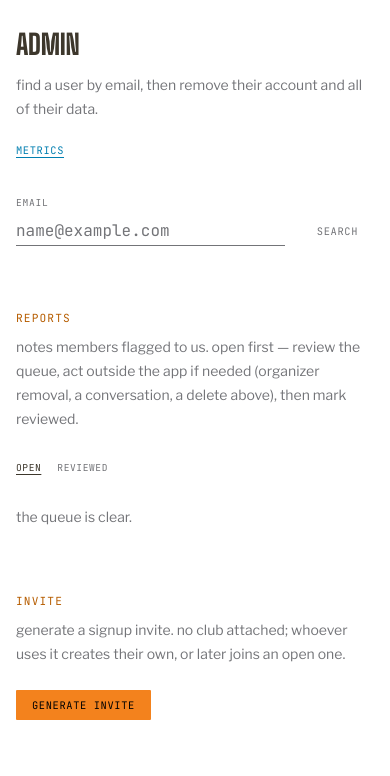
Test: AdminRoute › delete: a 409 self-delete shows the calm backend message and keeps the row
Type "target" into the search field labelled "email". click: point(150, 232)
box: [16, 217, 285, 246]
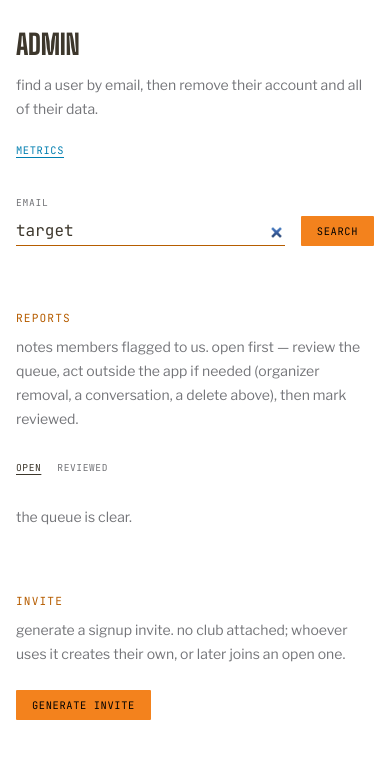
Click the button "search". click: point(337, 231)
box: [301, 216, 374, 246]
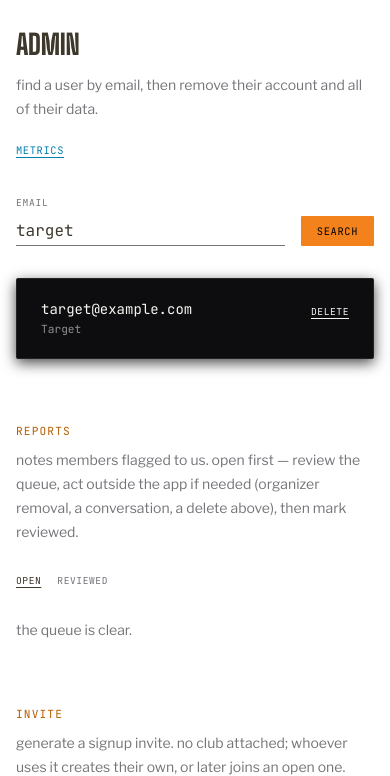
Expected: the text "target@example.com" is shown, [41, 299, 192, 319]
Click the button "delete". click: point(330, 312)
box: [311, 299, 349, 325]
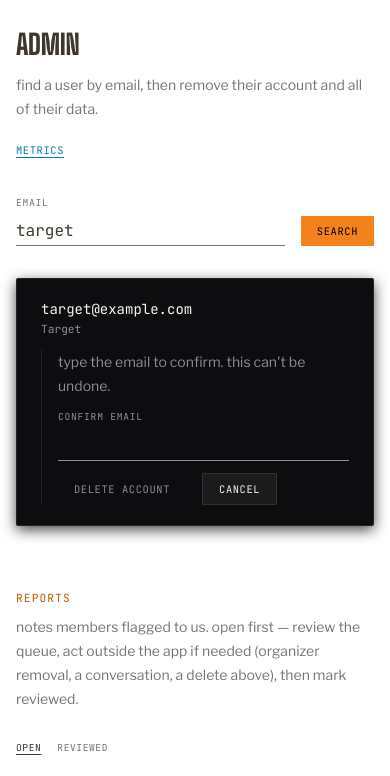
Type "target@example.com" into the field labelled "confirm email". click: point(204, 446)
box: [58, 432, 349, 461]
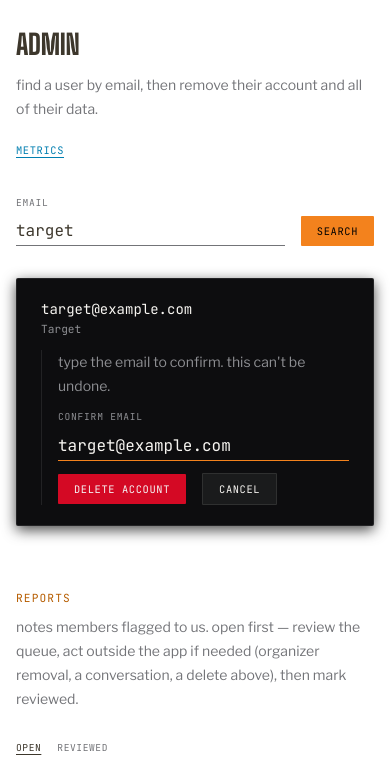
Click the button "delete account". click: point(122, 489)
box: [58, 474, 186, 504]
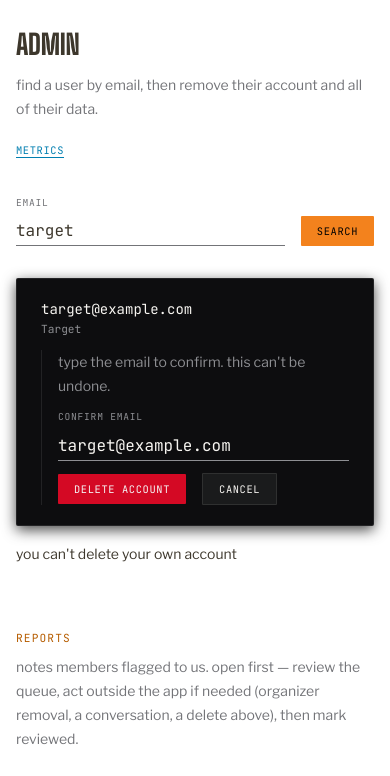
Expected: the text "target@example.com" is shown, [41, 299, 192, 319]
Expected: the text "you can't delete your own account" is shown, [16, 545, 237, 562]
